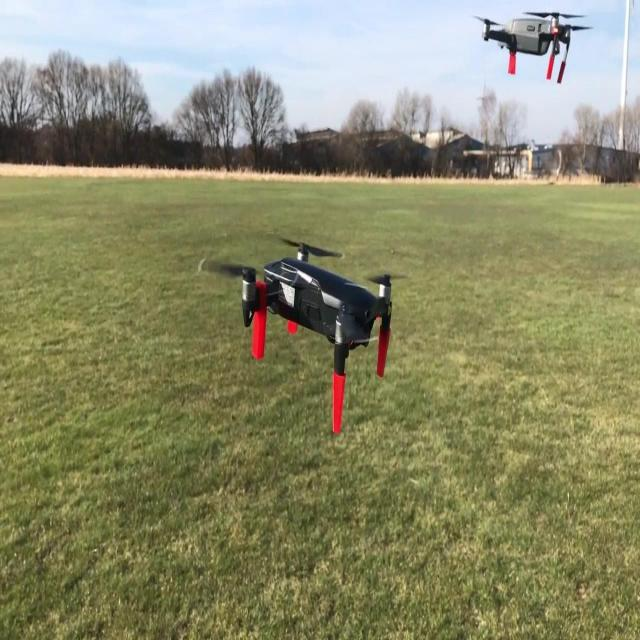UAV: (198, 236, 408, 434), (470, 0, 593, 84)
